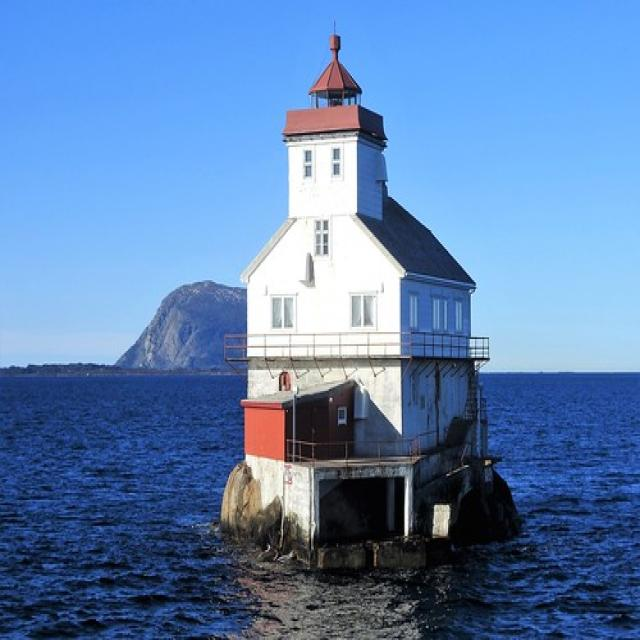building: (230, 51, 480, 572)
